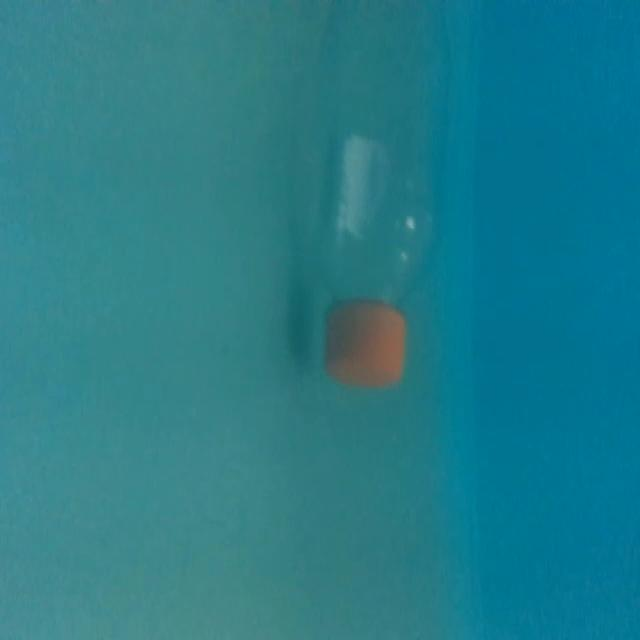plastic bottle: (296, 1, 454, 395)
